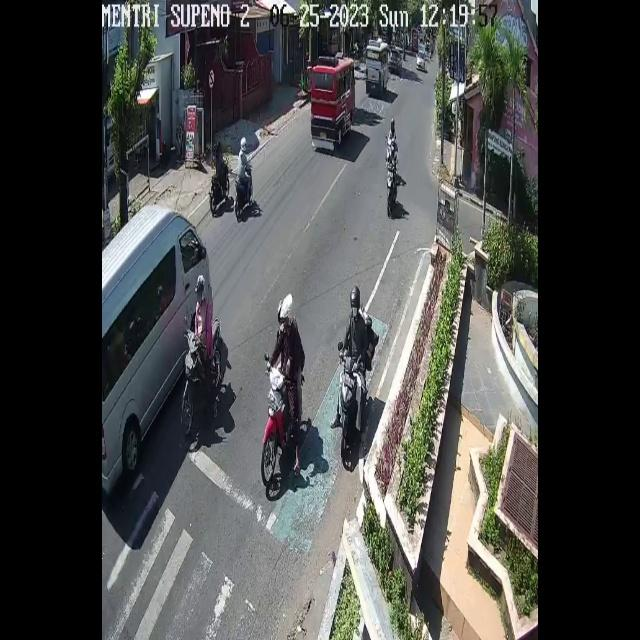bus: (182, 316, 224, 436), (262, 366, 290, 491), (339, 354, 363, 462), (210, 156, 230, 213), (233, 161, 252, 215), (386, 162, 396, 216), (386, 136, 396, 162)
car: (102, 204, 210, 495), (311, 51, 355, 152), (365, 40, 389, 97)
motorcycle: (389, 49, 402, 75), (416, 50, 426, 70)
